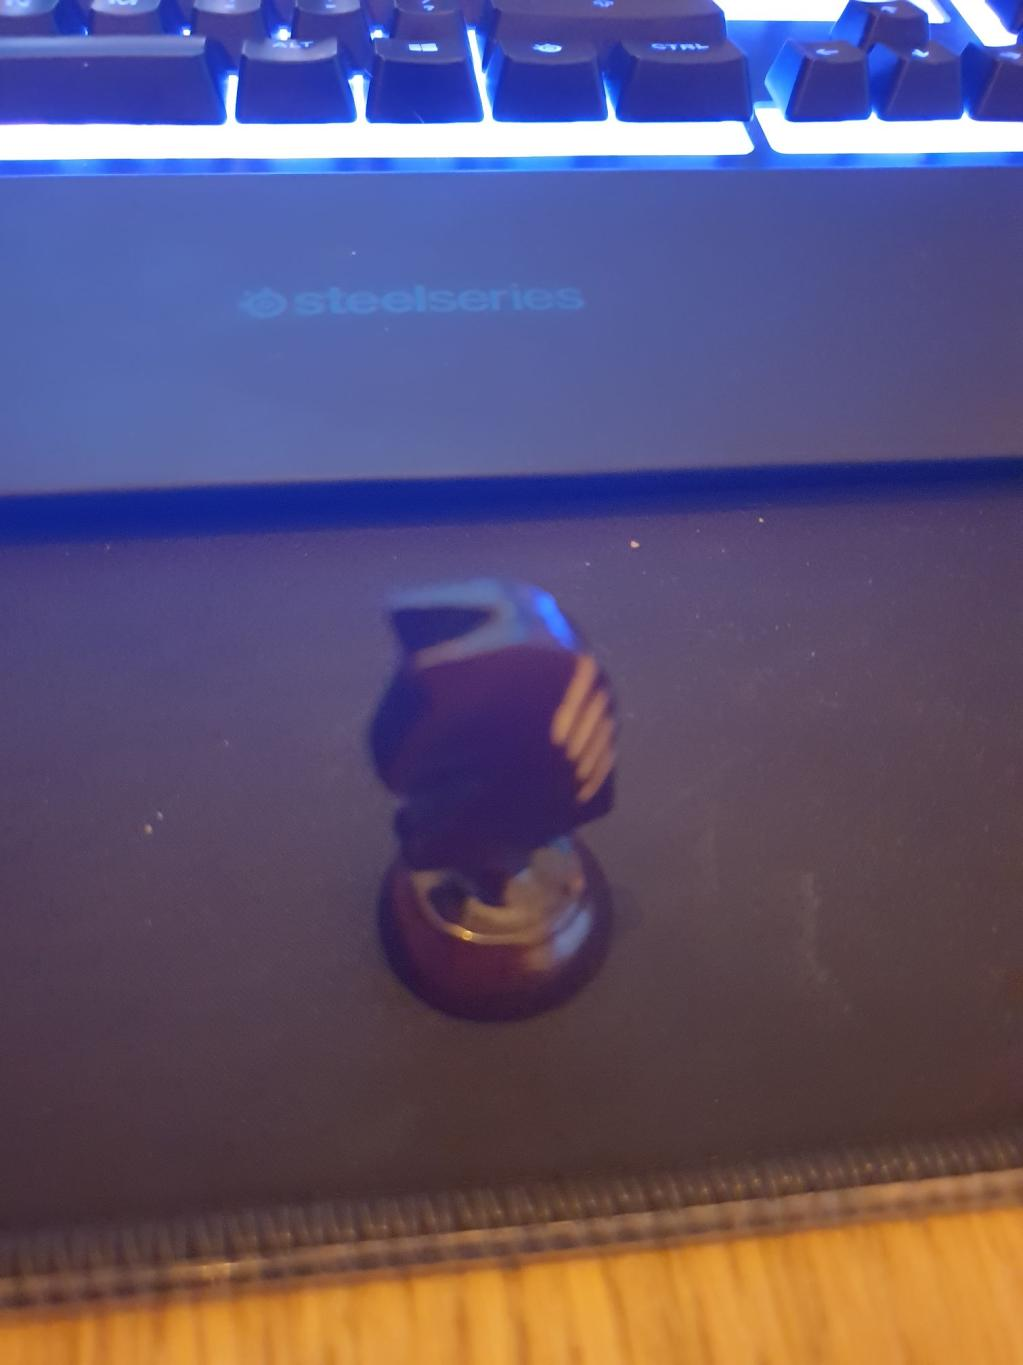bknight: (364, 578, 621, 1029)
